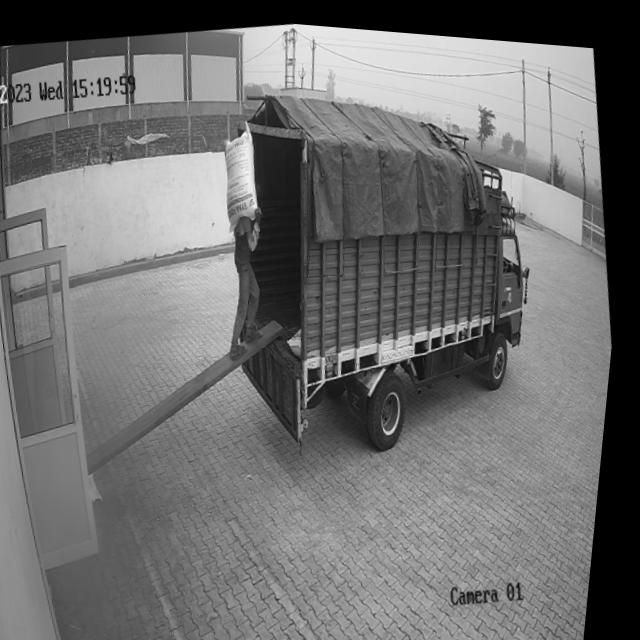sack: (215, 113, 273, 231)
